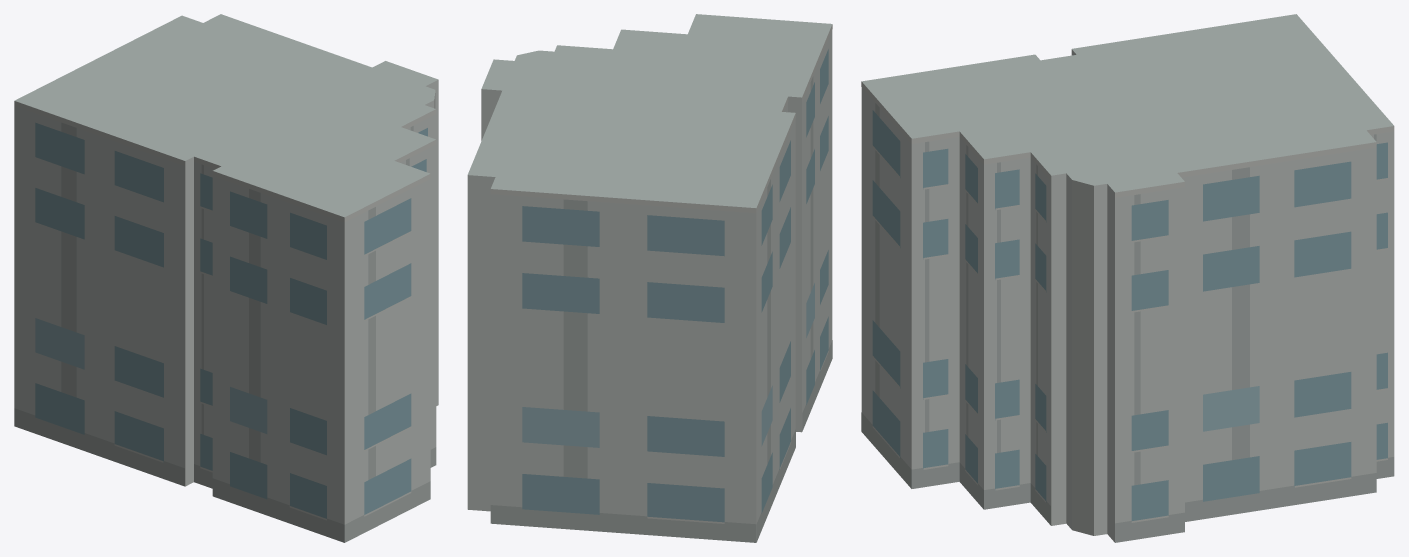
The model's file is survey-upis-32789678.glb.
The picture shows the model from 3 angles, left to right: view 1: azimuth 30°, elevation 25°; view 2: azimuth 150°, elevation 25°; view 3: azimuth 270°, elevation 25°; orthographic projection. The views are drawn at different scales.
Parts seen in each view (by area): view 1: survey-upis-32789678.tmp; view 2: survey-upis-32789678.tmp; view 3: survey-upis-32789678.tmp.
Boxes of the visible parts, left/top/right/bottom form: survey-upis-32789678.tmp: left=14, top=14, right=438, bottom=542; survey-upis-32789678.tmp: left=467, top=14, right=832, bottom=542; survey-upis-32789678.tmp: left=861, top=14, right=1394, bottom=542.
Bounding box in the file's own units: 17.06 × 15.6 × 21.51.
